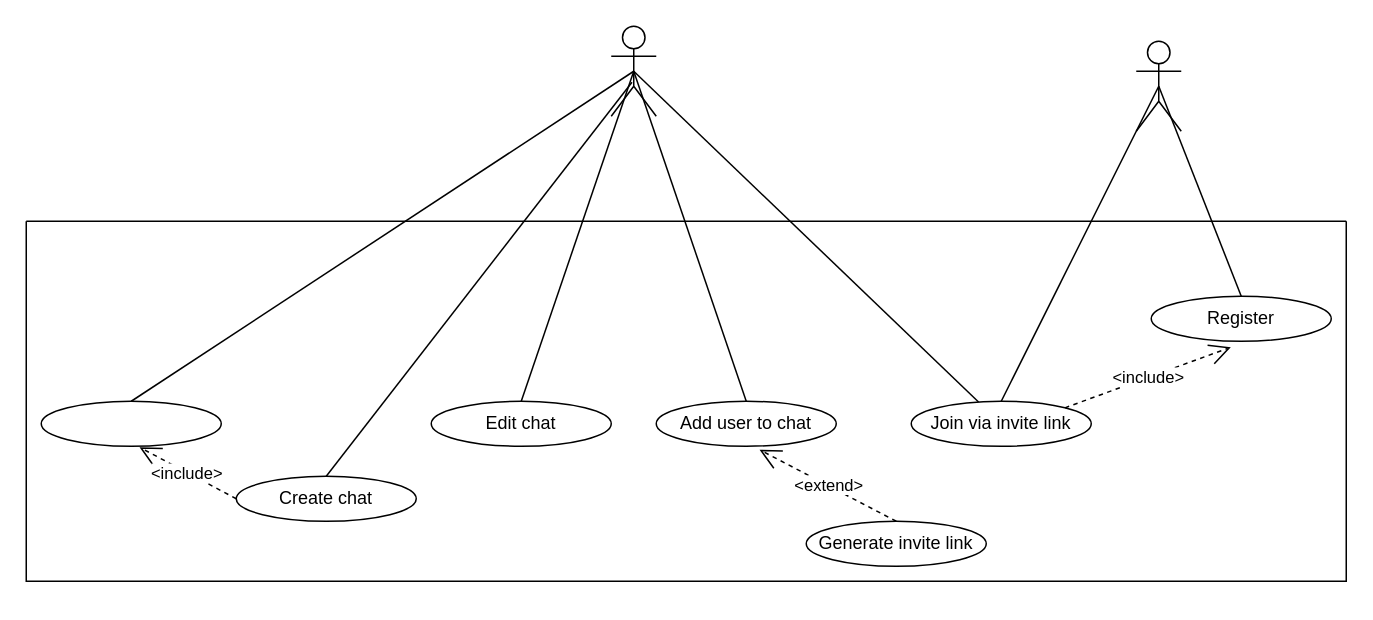
This 1373x620 diagram has some shape labels left out. Each missing label, with the centre of its shape:
"Guest" belongs at (x=1158, y=85).
"Login" belongs at (x=130, y=423).
"User" belongs at (x=633, y=70).
